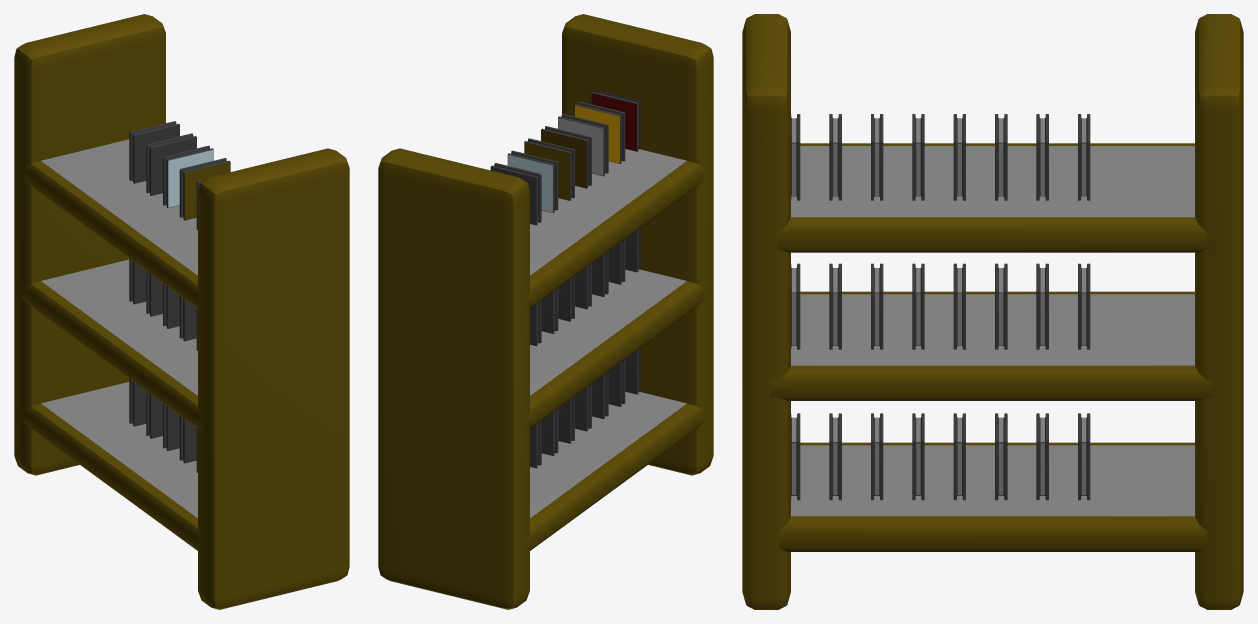
Rendered from librarybooks.fbx.
3 views of the same model, side by side, from view 1: azimuth 30°, elevation 25°; view 2: azimuth 150°, elevation 25°; view 3: azimuth 270°, elevation 25° (orthographic). The views are drawn at different scales.
Parts seen in each view (by area): view 1: cupboard; view 2: cupboard; view 3: cupboard.
Part boxes in pixels (x1,y1,x2,y2): cupboard: (14, 14, 349, 609); cupboard: (378, 14, 713, 609); cupboard: (742, 14, 1243, 609).
Bounding box in the file's own units: 3.06 × 8.8 × 7.62.
